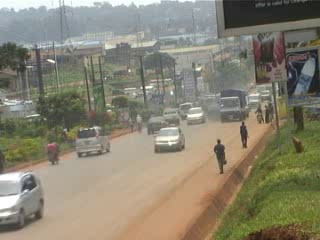Car: (0, 168, 46, 229), (74, 124, 115, 158), (153, 124, 187, 153), (147, 114, 171, 137), (186, 103, 207, 126)
Motorcycle: (46, 136, 62, 167)
